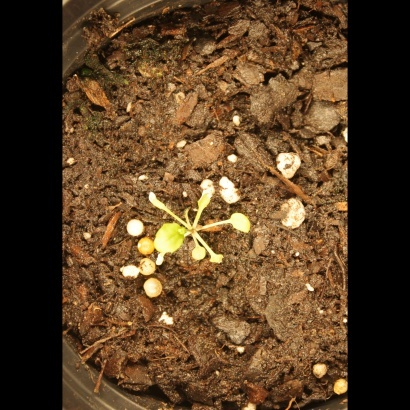leaf: (152, 220, 185, 260), (140, 187, 171, 218), (226, 211, 256, 240), (192, 186, 215, 216), (185, 244, 208, 267), (208, 250, 231, 273)
